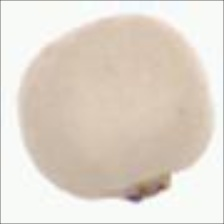L5: (105, 166, 186, 207)
L6: (14, 12, 219, 208)
